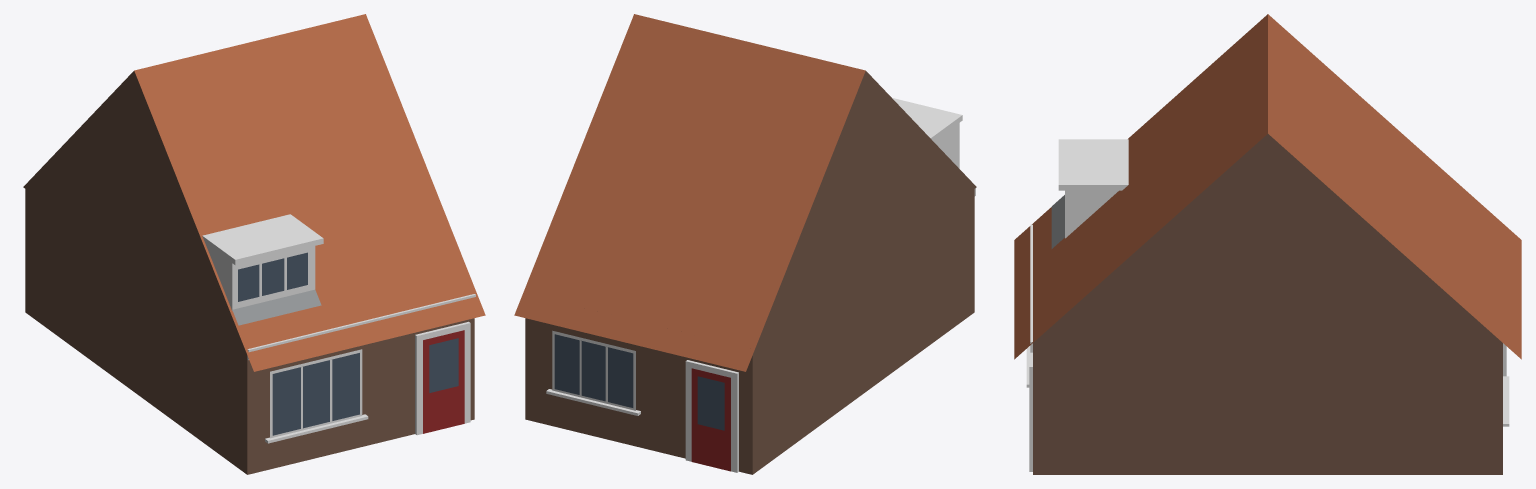
The model's file is nd-to-cottage__red-door__2__gable__long__solid__f0d1__mirror.glb.
The picture shows the model from 3 angles, left to right: view 1: azimuth 30°, elevation 25°; view 2: azimuth 150°, elevation 25°; view 3: azimuth 270°, elevation 25°; orthographic projection. The views are drawn at different scales.
Parts seen in each view (by area): view 1: nd-to-cottage__red-door__2__gable__long__solid__f0d1__mirror; view 2: nd-to-cottage__red-door__2__gable__long__solid__f0d1__mirror; view 3: nd-to-cottage__red-door__2__gable__long__solid__f0d1__mirror.
Part boxes in pixels (x1,y1,x2,y2): nd-to-cottage__red-door__2__gable__long__solid__f0d1__mirror: (23, 14, 485, 474); nd-to-cottage__red-door__2__gable__long__solid__f0d1__mirror: (514, 14, 976, 474); nd-to-cottage__red-door__2__gable__long__solid__f0d1__mirror: (1014, 14, 1521, 474).
Bounding box in the file's own units: 5.3 × 7.08 × 9.5.
